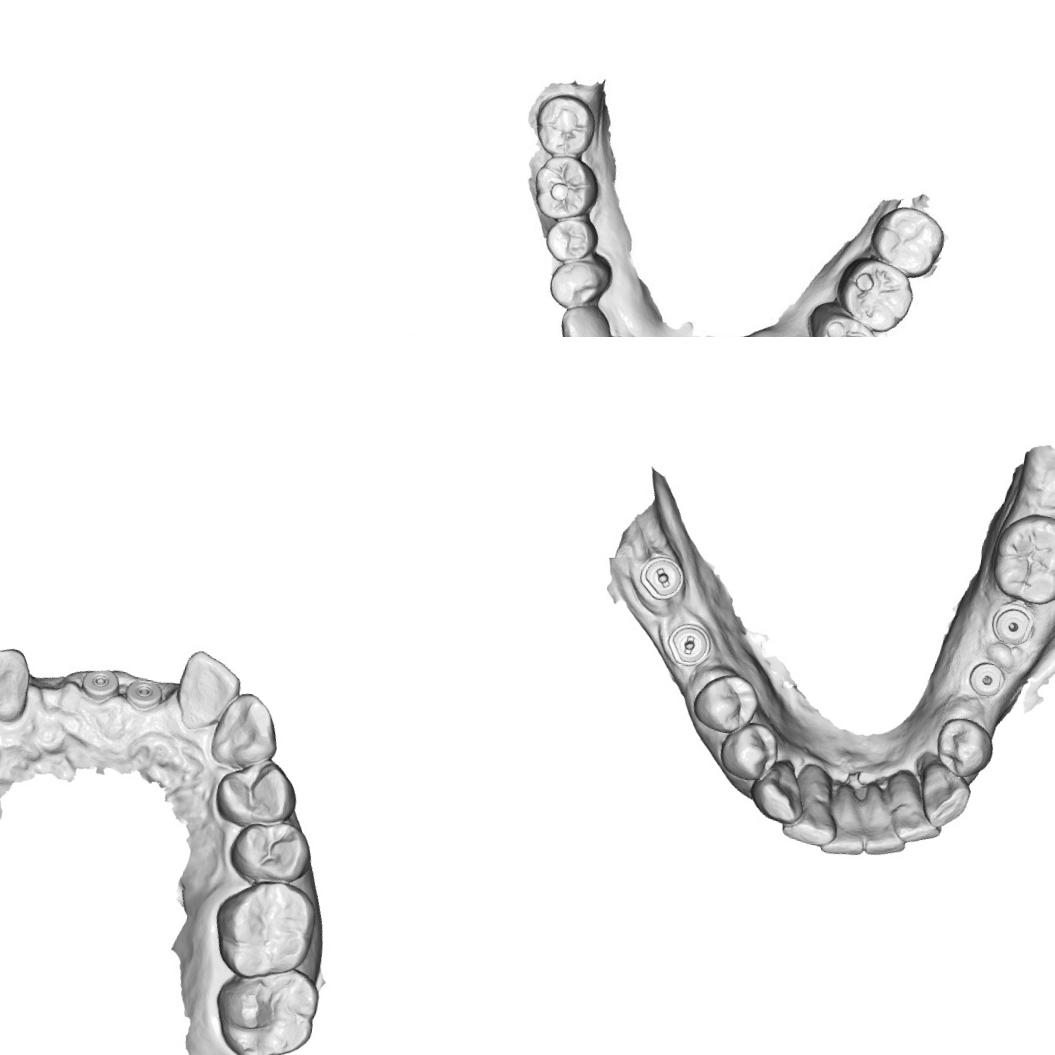canine: (207, 688, 284, 771), (912, 756, 978, 834), (748, 756, 810, 826), (0, 640, 36, 722), (558, 303, 615, 337)
implant: (989, 601, 1035, 647), (966, 660, 1008, 702), (126, 675, 167, 715), (82, 666, 119, 707)
implant_minus: (638, 554, 687, 600), (665, 622, 710, 666)
incisor: (170, 645, 247, 732), (778, 758, 844, 848), (882, 771, 950, 850), (818, 780, 874, 860), (854, 792, 911, 862)
molar: (206, 874, 322, 986), (209, 958, 322, 1055), (986, 508, 1055, 611), (871, 204, 945, 274), (841, 257, 912, 329), (532, 151, 602, 220), (534, 92, 596, 159)
premolar: (211, 751, 304, 832), (224, 814, 316, 888), (930, 713, 998, 782), (694, 670, 760, 736), (722, 721, 782, 781), (546, 254, 606, 312), (544, 214, 600, 264), (816, 311, 880, 337)
